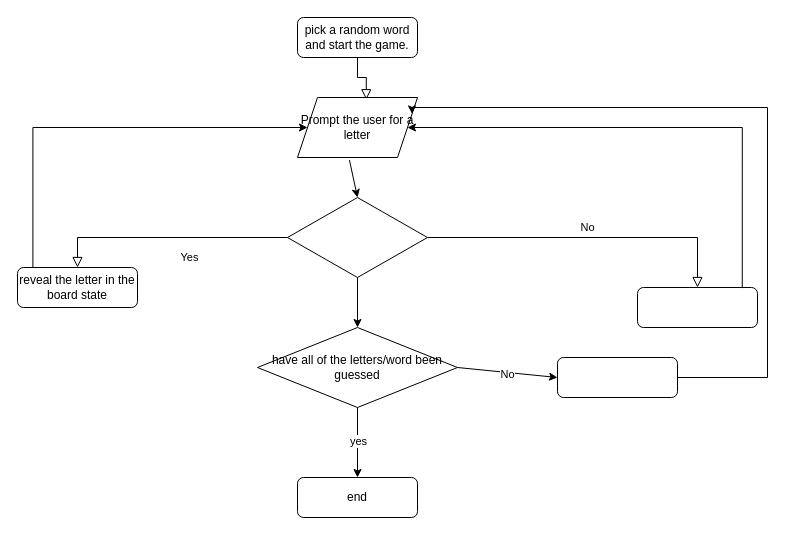
The diagram is 793 pixels wide and 535 high, and some of its shapes have lost their labels. The centre of each missing label's shape, as x and y in pixels:
"is the letter in the word?" belongs at point (357, 237).
"loop back to prompt the user for a letter" belongs at point (617, 377).
"take one life from the player" belongs at point (697, 307).
